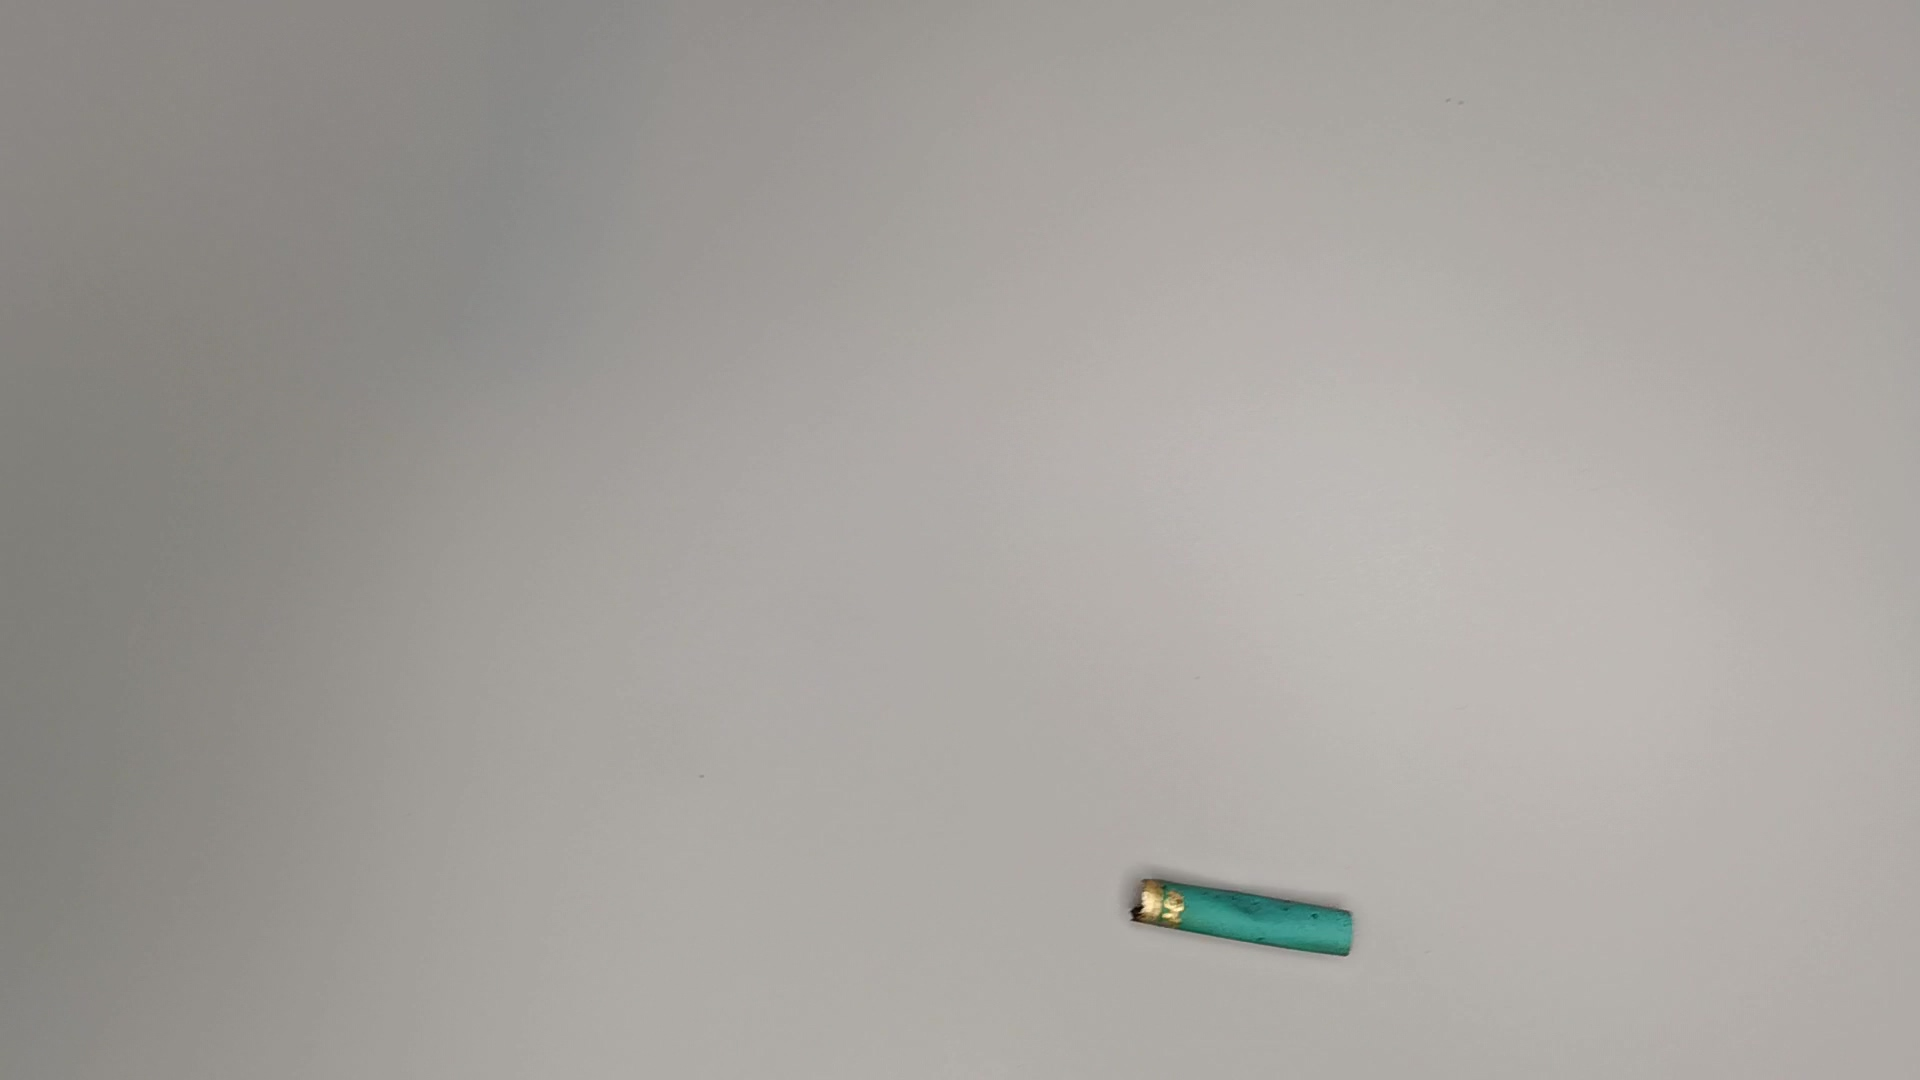cigarette: (1130, 869, 1366, 971)
